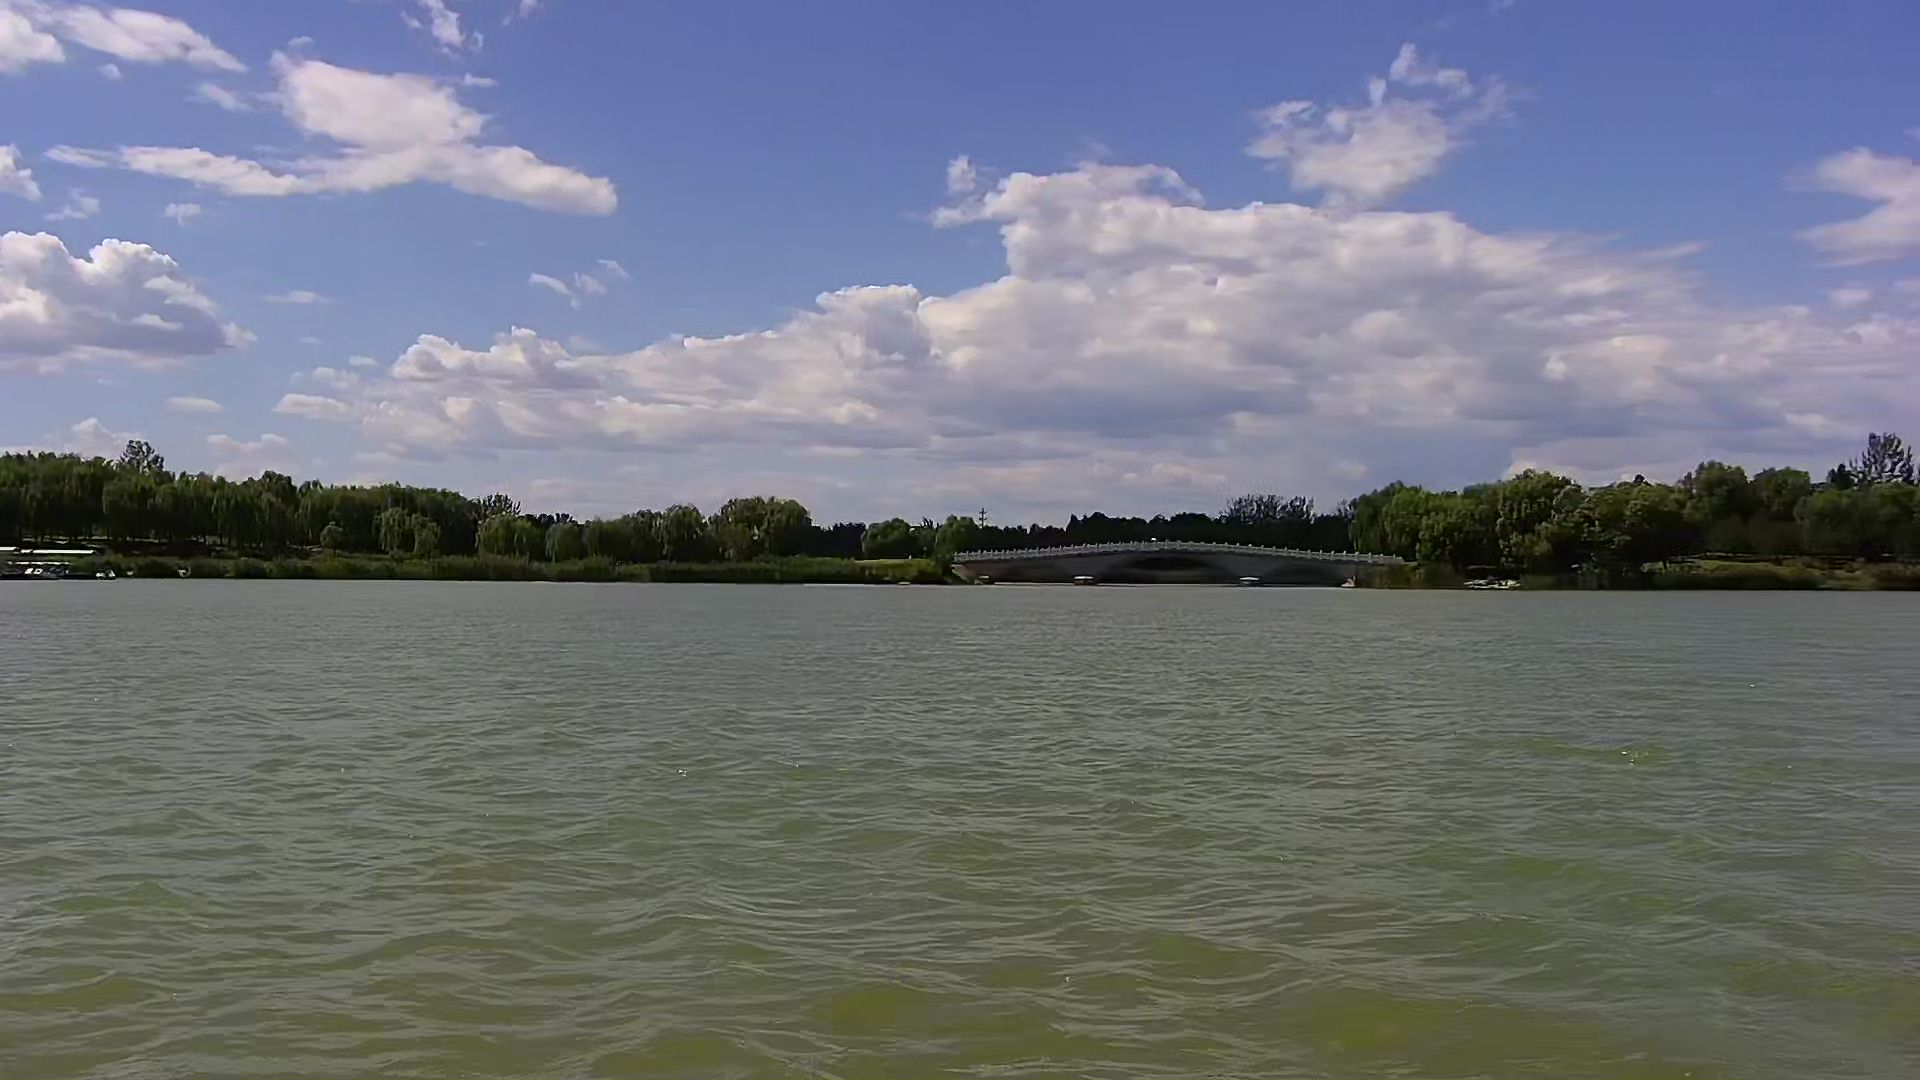bridge: (945, 542, 1415, 592)
